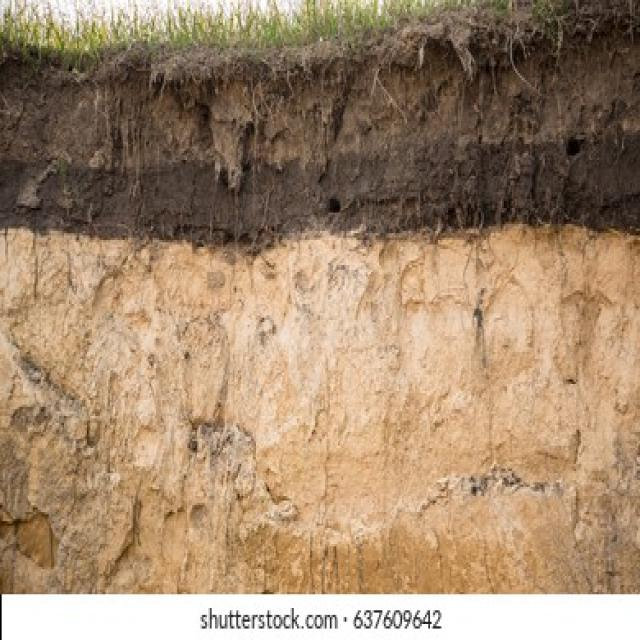Clay Soil: (4, 125, 618, 533)
